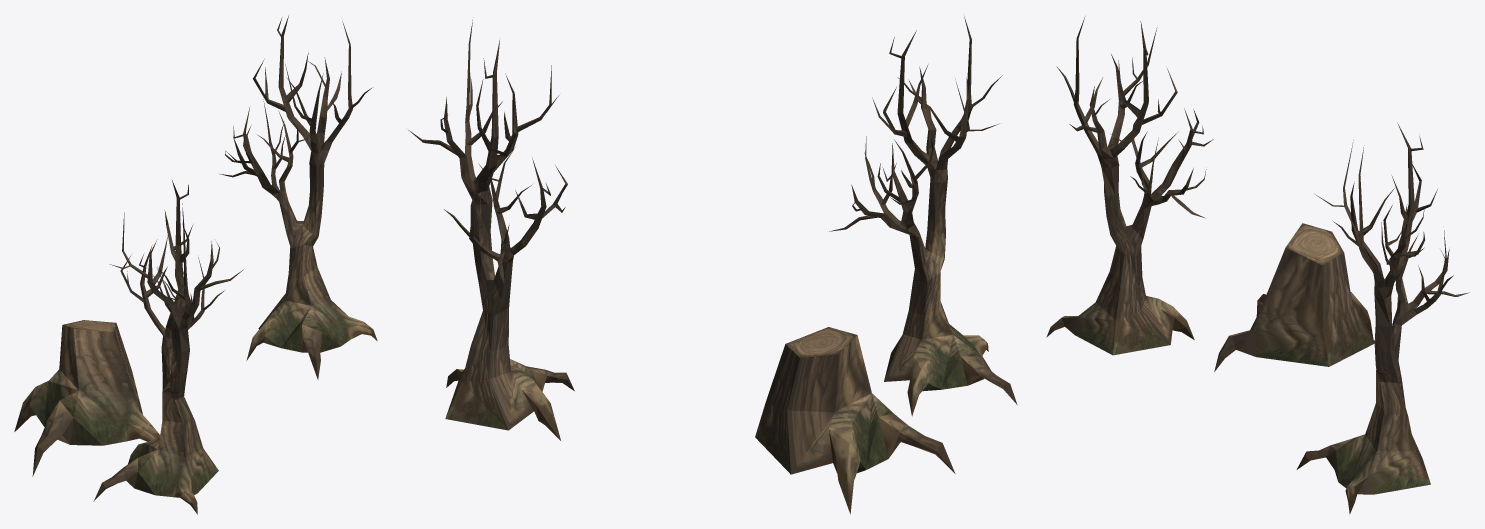
The model's file is plants_tall_tree_trunks209.fbx.
The picture shows the model from 3 angles, left to right: view 1: azimuth 30°, elevation 25°; view 2: azimuth 150°, elevation 25°; view 3: azimuth 270°, elevation 25°; orthographic projection. The views are drawn at different scales.
Visible parts, largest first — view 1: obj0.160; view 2: obj0.160; view 3: obj0.160.
Boxes of the visible parts, x1,y1,x2,y2 form: obj0.160: (14, 15, 377, 514); obj0.160: (408, 16, 1017, 514); obj0.160: (1046, 16, 1469, 514).
Size of the model in its own units: 12.46 by 10.48 by 10.83.
